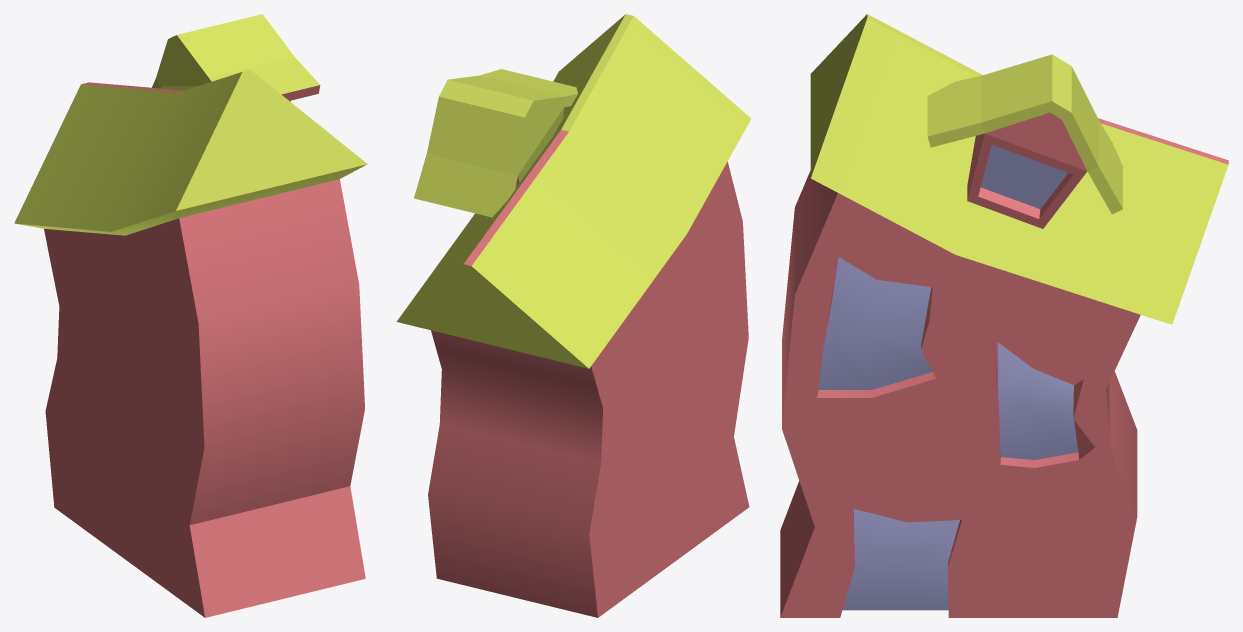
File: toinen talo.fbx
3 views of the same model, side by side, from view 1: azimuth 30°, elevation 25°; view 2: azimuth 150°, elevation 25°; view 3: azimuth 270°, elevation 25° (orthographic). The views are drawn at different scales.
Visible parts, largest first — view 1: Cube.008; view 2: Cube.008; view 3: Cube.008.
Boxes of the visible parts, x1,y1,x2,y2 form: Cube.008: (14, 14, 367, 617); Cube.008: (396, 14, 751, 617); Cube.008: (780, 14, 1228, 617).
Bounding box in the file's own units: 914 × 2217 × 1615.
